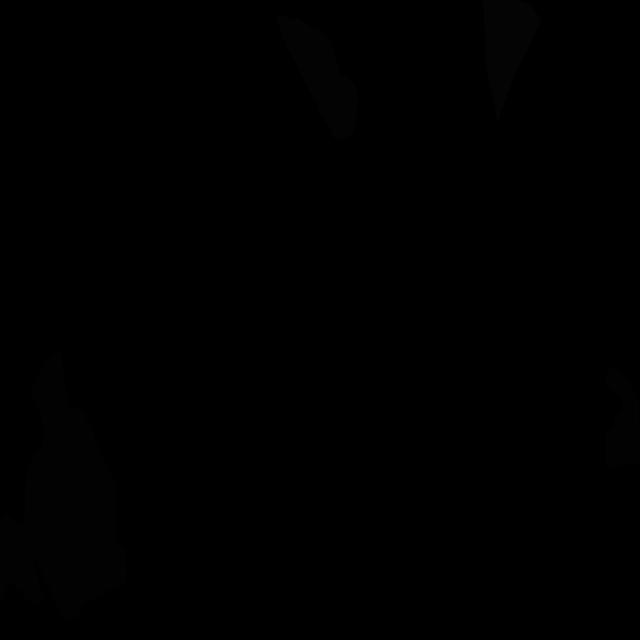cardboard: (30, 351, 126, 584), (0, 461, 126, 620), (604, 367, 640, 468)
metal: (275, 15, 358, 140)
soft_plastic: (482, 0, 541, 124)
